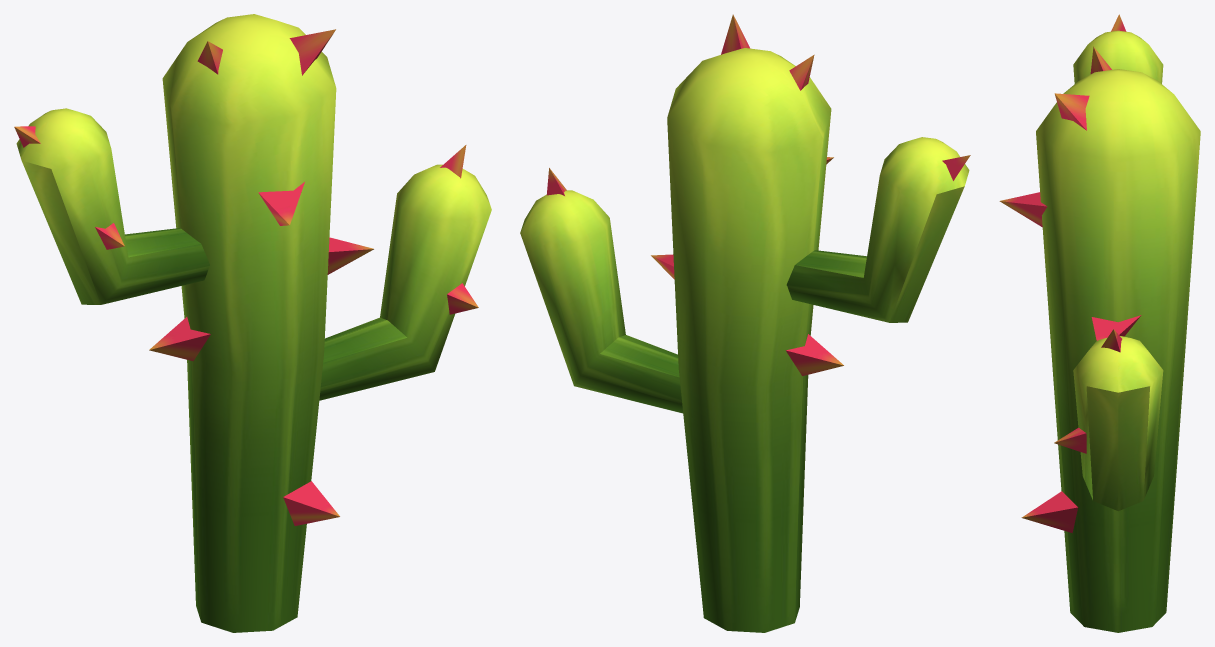
Rendered from Cactus_1.FBX.
3 renders of one model, left to right at view 1: azimuth 30°, elevation 25°; view 2: azimuth 150°, elevation 25°; view 3: azimuth 270°, elevation 25°, orthographic. The views are drawn at different scales.
Parts seen in each view (by area): view 1: Cactus_1; view 2: Cactus_1; view 3: Cactus_1.
Part boxes in pixels (left/top/right/bottom): Cactus_1: left=14, top=14, right=491, bottom=632; Cactus_1: left=520, top=14, right=970, bottom=632; Cactus_1: left=999, top=14, right=1200, bottom=632.
Size of the model in its own units: 0.9373 by 1.13 by 0.3788.
